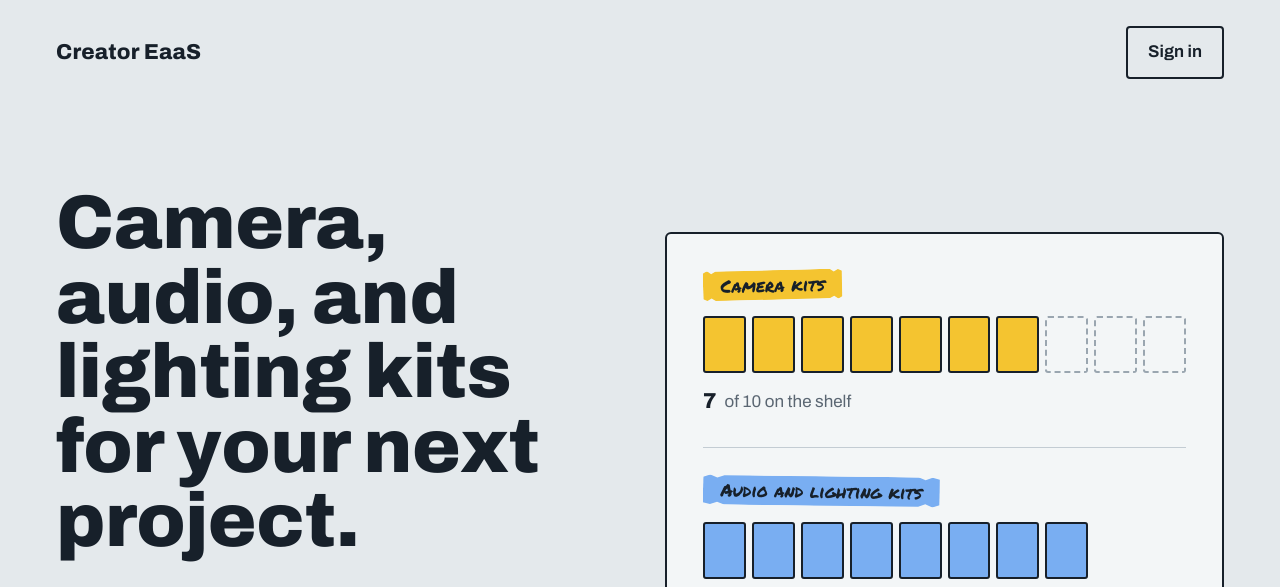
Test: checking out kits updates the shelf and this project’s count
This screenshot has width=1280, height=587.
Expected: the text "Camera kits" is shown, [703,268,843,301]
Click the button "Sign in" in the row of "Creator EaaS" at [1175, 52], box [1126,26,1224,79]
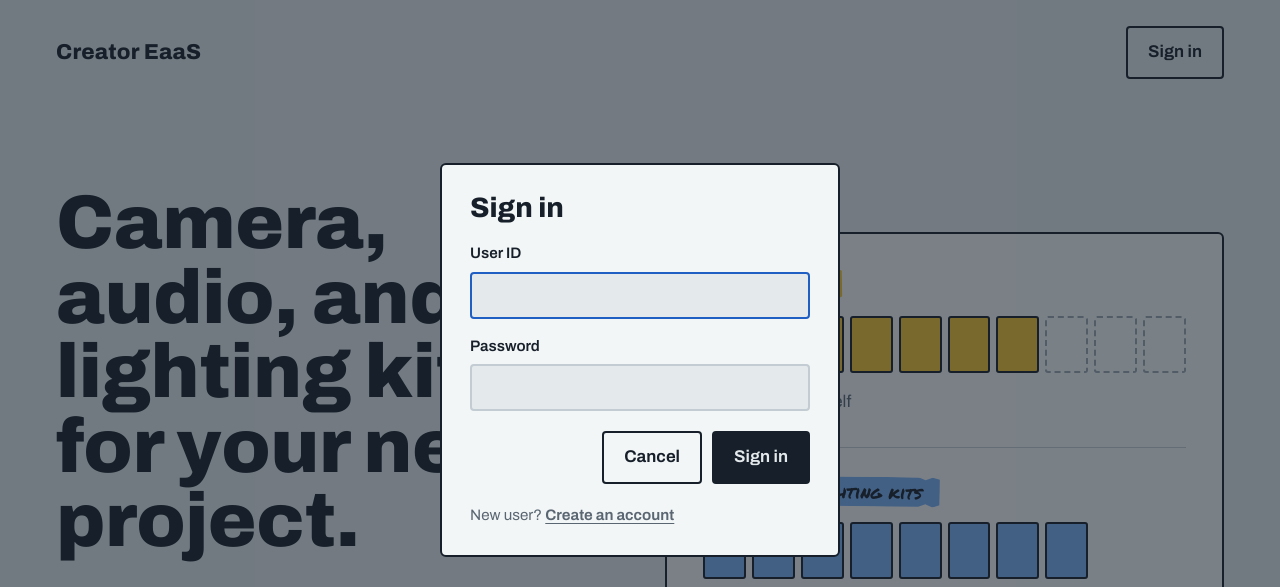
Type "alice" into the field labelled "User ID" at [640, 295], box [470,272,810,318]
Type "pw-123" into the password field labelled "Password" at [640, 387], box [470,364,810,411]
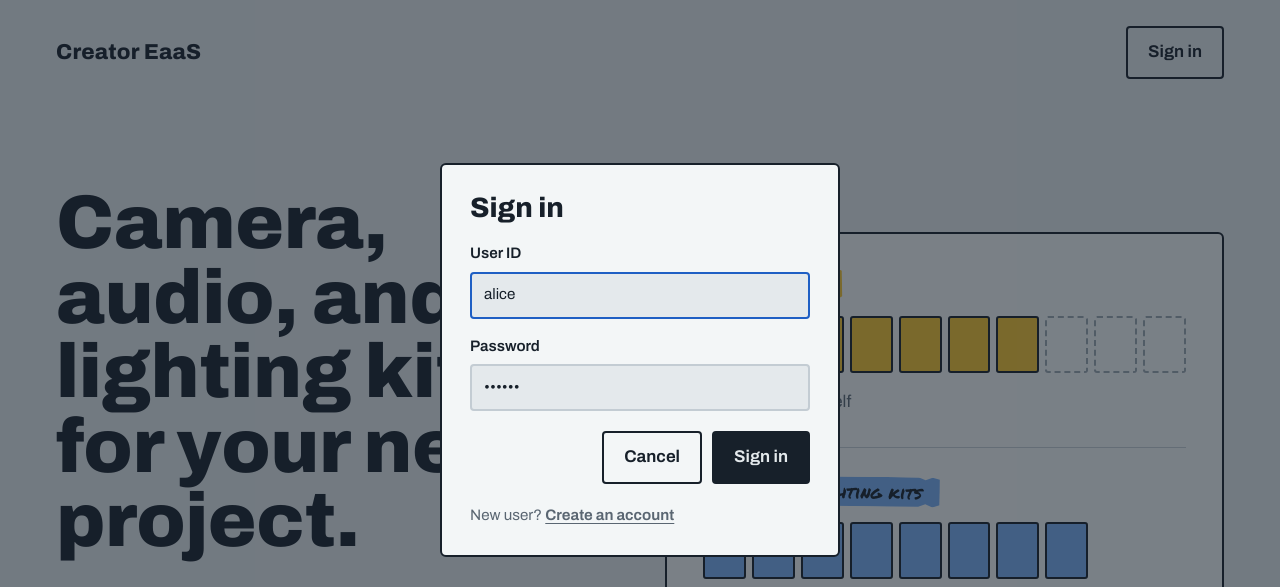
Click the button "Sign in" at [761, 457], box [712,431,810,484]
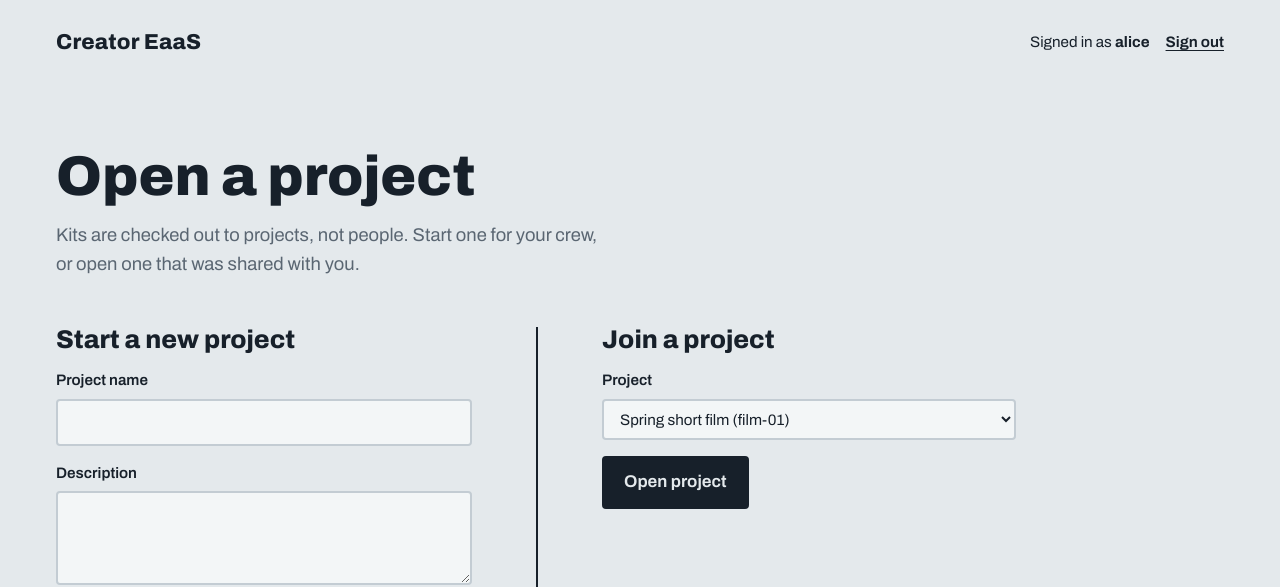
Expected: the heading "Open a project" is shown, [56,146,475,208]
Now the dropdown labelled "Project" is enabled
Select "Spring short film (film-01)" in the dropdown labelled "Project" at [809, 420], box [602,399,1016,440]
Click the button "Open project" at [675, 482], box [602,456,749,509]
(page scrolled)
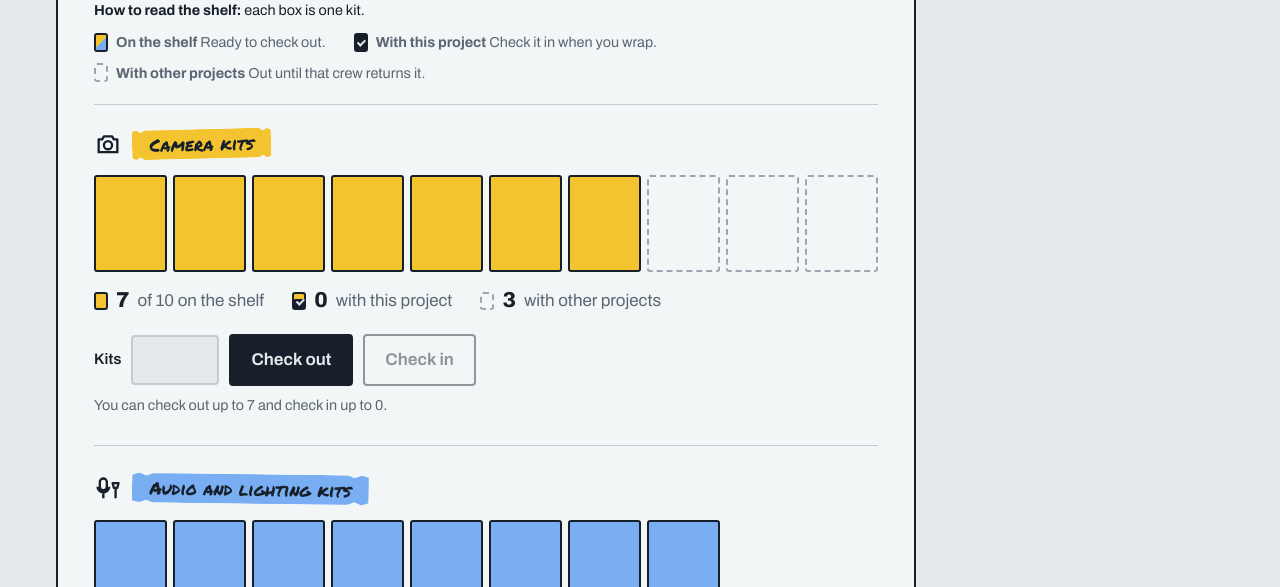
Now the text "Camera kits" is shown, box [132,128,272,160]
Type "3" into the number field named "Camera kits" at [175, 360], box [131,335,219,385]
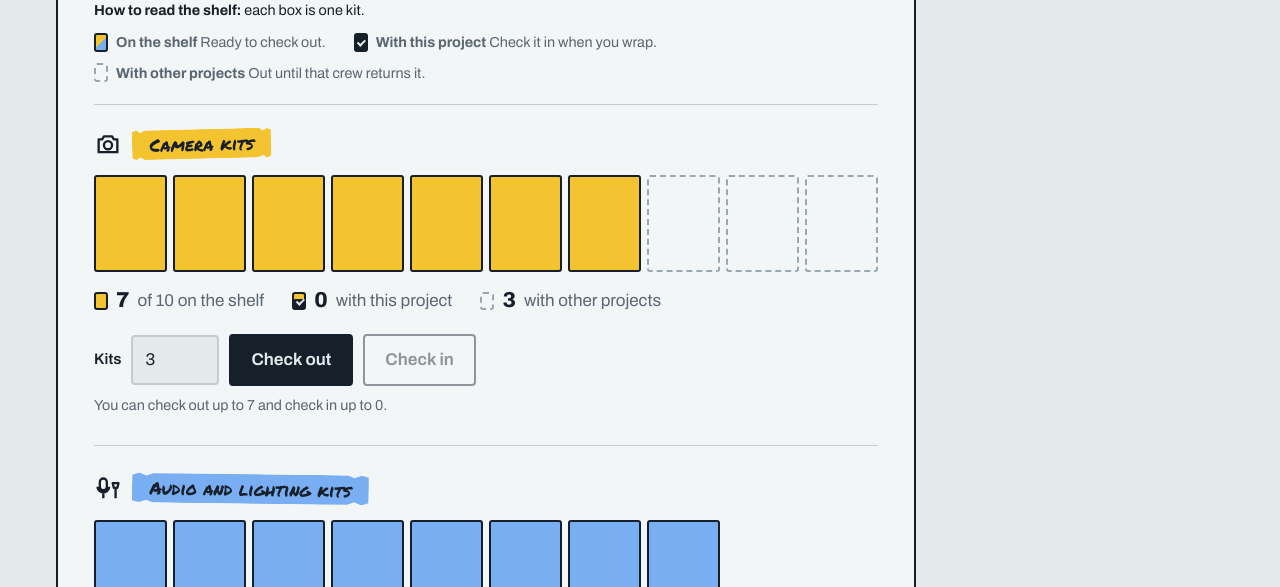
Click the button "Check out" below "10" at [291, 360], box [229,334,353,386]
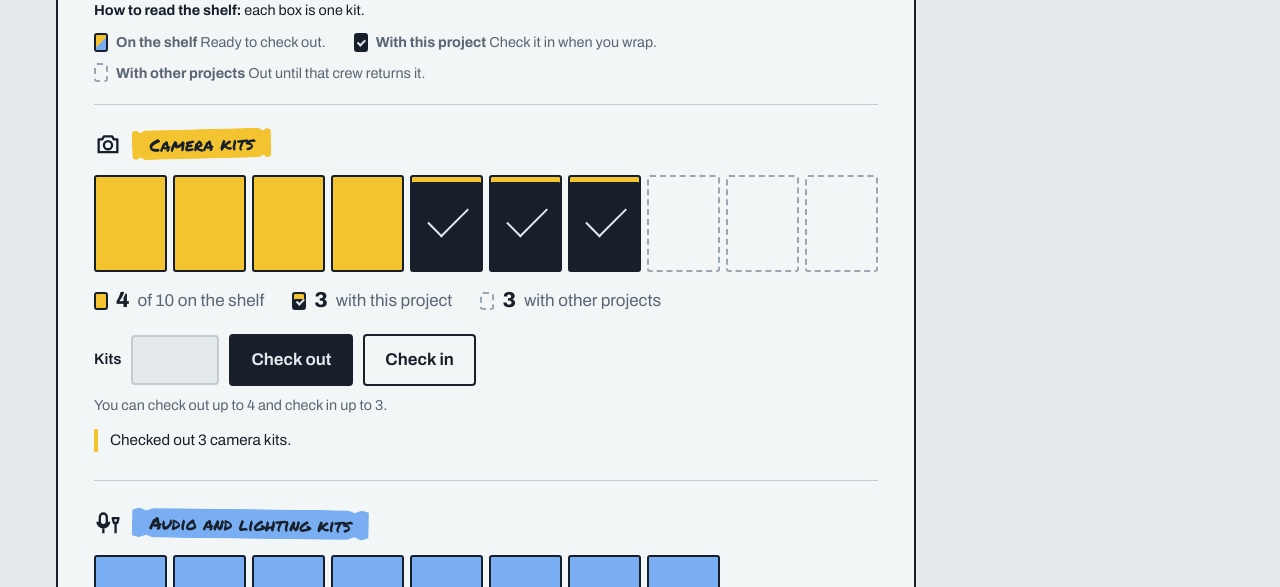
Now the message reads "Checked out 3 camera kits.", box [110,432,292,448]
Now the text "Camera kits" shows "4 of 10 on the shelf", box [94,129,878,452]
Now the text "Camera kits" shows "3 with this project", box [94,129,878,452]
